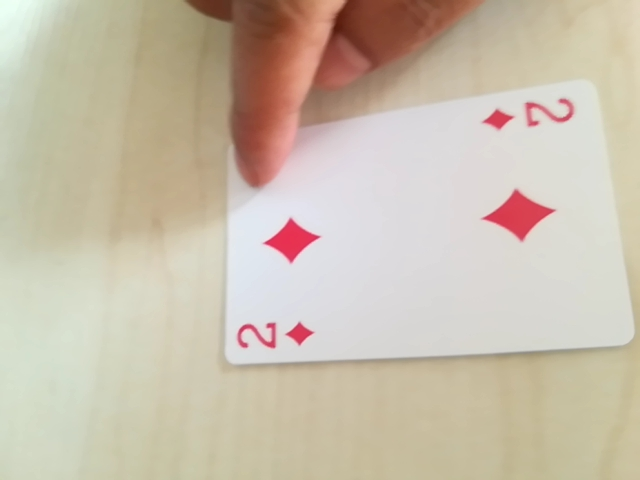fk 2: (480, 89, 586, 139), (232, 310, 323, 364)
